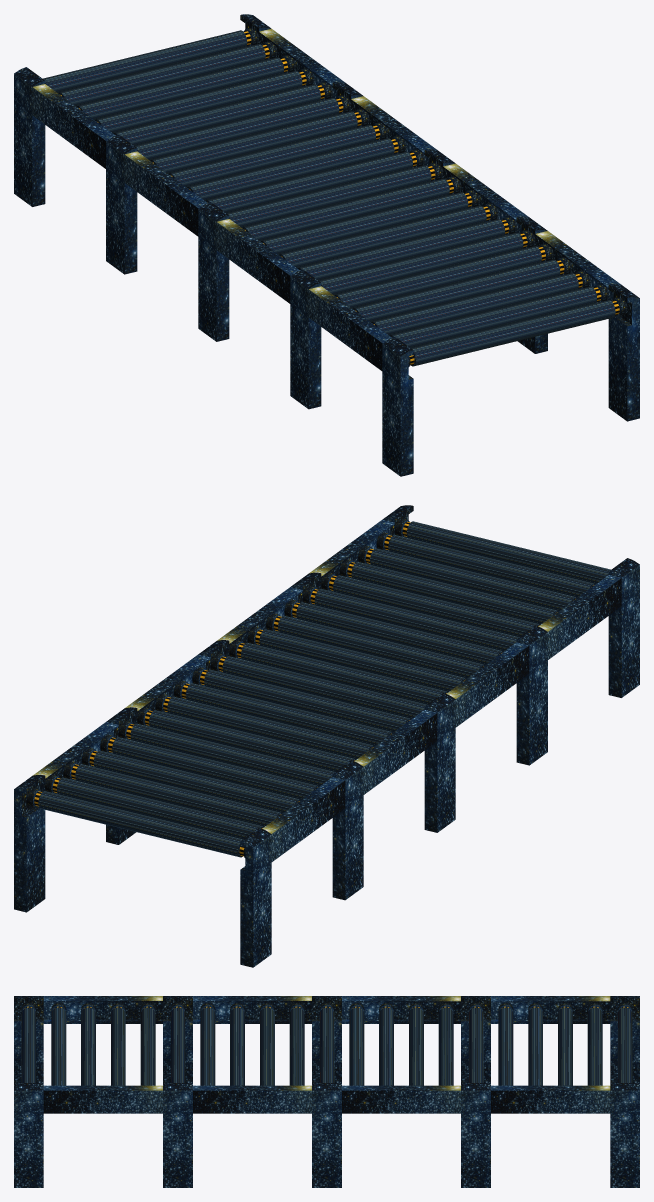
The model's file is conveyorBelt.fbx.
3 views of the same model, one above another, from view 1: azimuth 30°, elevation 25°; view 2: azimuth 150°, elevation 25°; view 3: azimuth 270°, elevation 25° (orthographic). The views are drawn at different scales.
Visible parts, largest first — view 1: Cube, Cube.001, Bar.021, Bar.014, Bar.019, Bar.003, Bar.006, Bar.008, Bar.012, Bar.017, Bar.001, Bar.007 (+11 smaller); view 2: Cube, Cube.001, Bar, Bar.007, Bar.002, Bar.004, Bar.009, Bar.013, Bar.015, Bar.018, Bar.014, Bar.020 (+11 smaller); view 3: Cube, Cube.001, Bar.004, Bar.017, Bar.001, Bar.006, Bar.015, Bar.020, Bar.009, Bar.012, Bar, Bar.021 (+11 smaller).
Part boxes in pixels (x1,y1,x2,y2): Cube: [14, 14, 639, 476]; Cube.001: [32, 28, 620, 370]; Bar.021: [408, 297, 627, 366]; Bar.014: [279, 203, 498, 268]; Bar.019: [371, 270, 590, 335]; Bar.003: [95, 68, 314, 133]; Bar.006: [150, 108, 369, 173]; Bar.008: [187, 135, 406, 200]; Bar.012: [242, 176, 461, 241]; Bar.017: [334, 243, 553, 308]; Bar.001: [58, 41, 277, 106]; Bar.007: [169, 122, 387, 187]; Cube: [14, 505, 639, 967]; Cube.001: [33, 519, 621, 861]; Bar: [26, 788, 245, 857]; Bar.007: [155, 694, 374, 759]; Bar.002: [63, 761, 282, 826]; Bar.004: [100, 734, 319, 799]; Bar.009: [192, 667, 411, 732]; Bar.013: [247, 626, 466, 691]; Bar.015: [284, 599, 503, 664]; Bar.018: [339, 559, 558, 624]; Bar.014: [266, 613, 484, 678]; Bar.020: [376, 532, 595, 597]; Cube: [14, 996, 639, 1187]; Cube.001: [43, 996, 610, 1113]; Bar.004: [498, 1002, 513, 1085]; Bar.017: [140, 1002, 155, 1085]; Bar.001: [587, 1002, 602, 1085]; Bar.006: [438, 1002, 453, 1085]; Bar.015: [200, 1002, 215, 1085]; Bar.020: [51, 1002, 66, 1085]; Bar.009: [349, 1002, 364, 1085]; Bar.012: [289, 1002, 304, 1085]; Bar: [617, 1002, 632, 1082]; Bar.021: [21, 1002, 36, 1082].
Bounding box in the file's own units: 375 × 185 × 1050.
